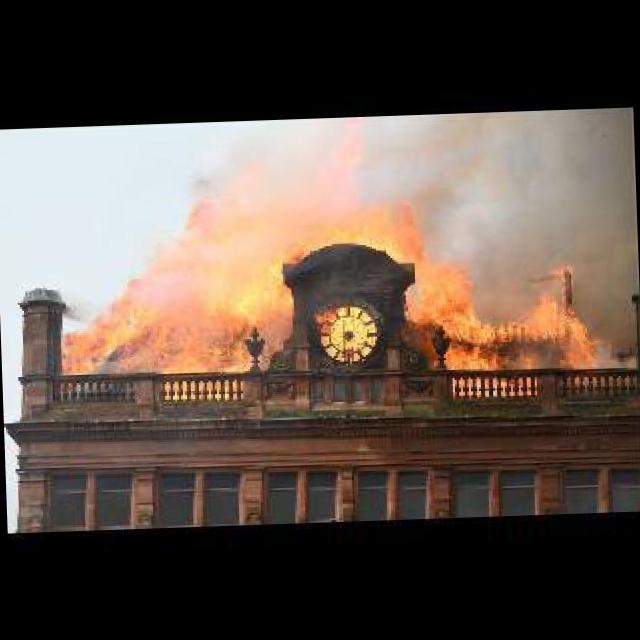Fire: (58, 144, 606, 393)
